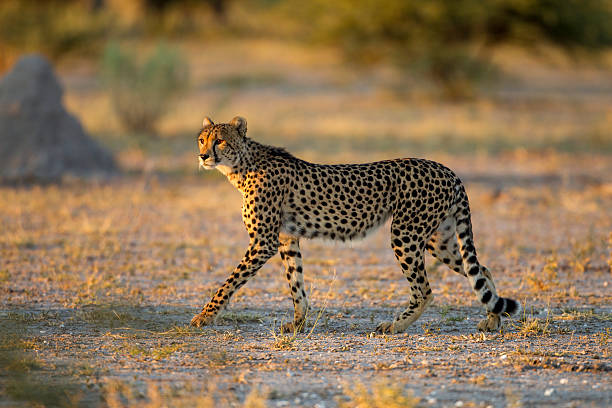cheetah: (179, 104, 258, 183)
